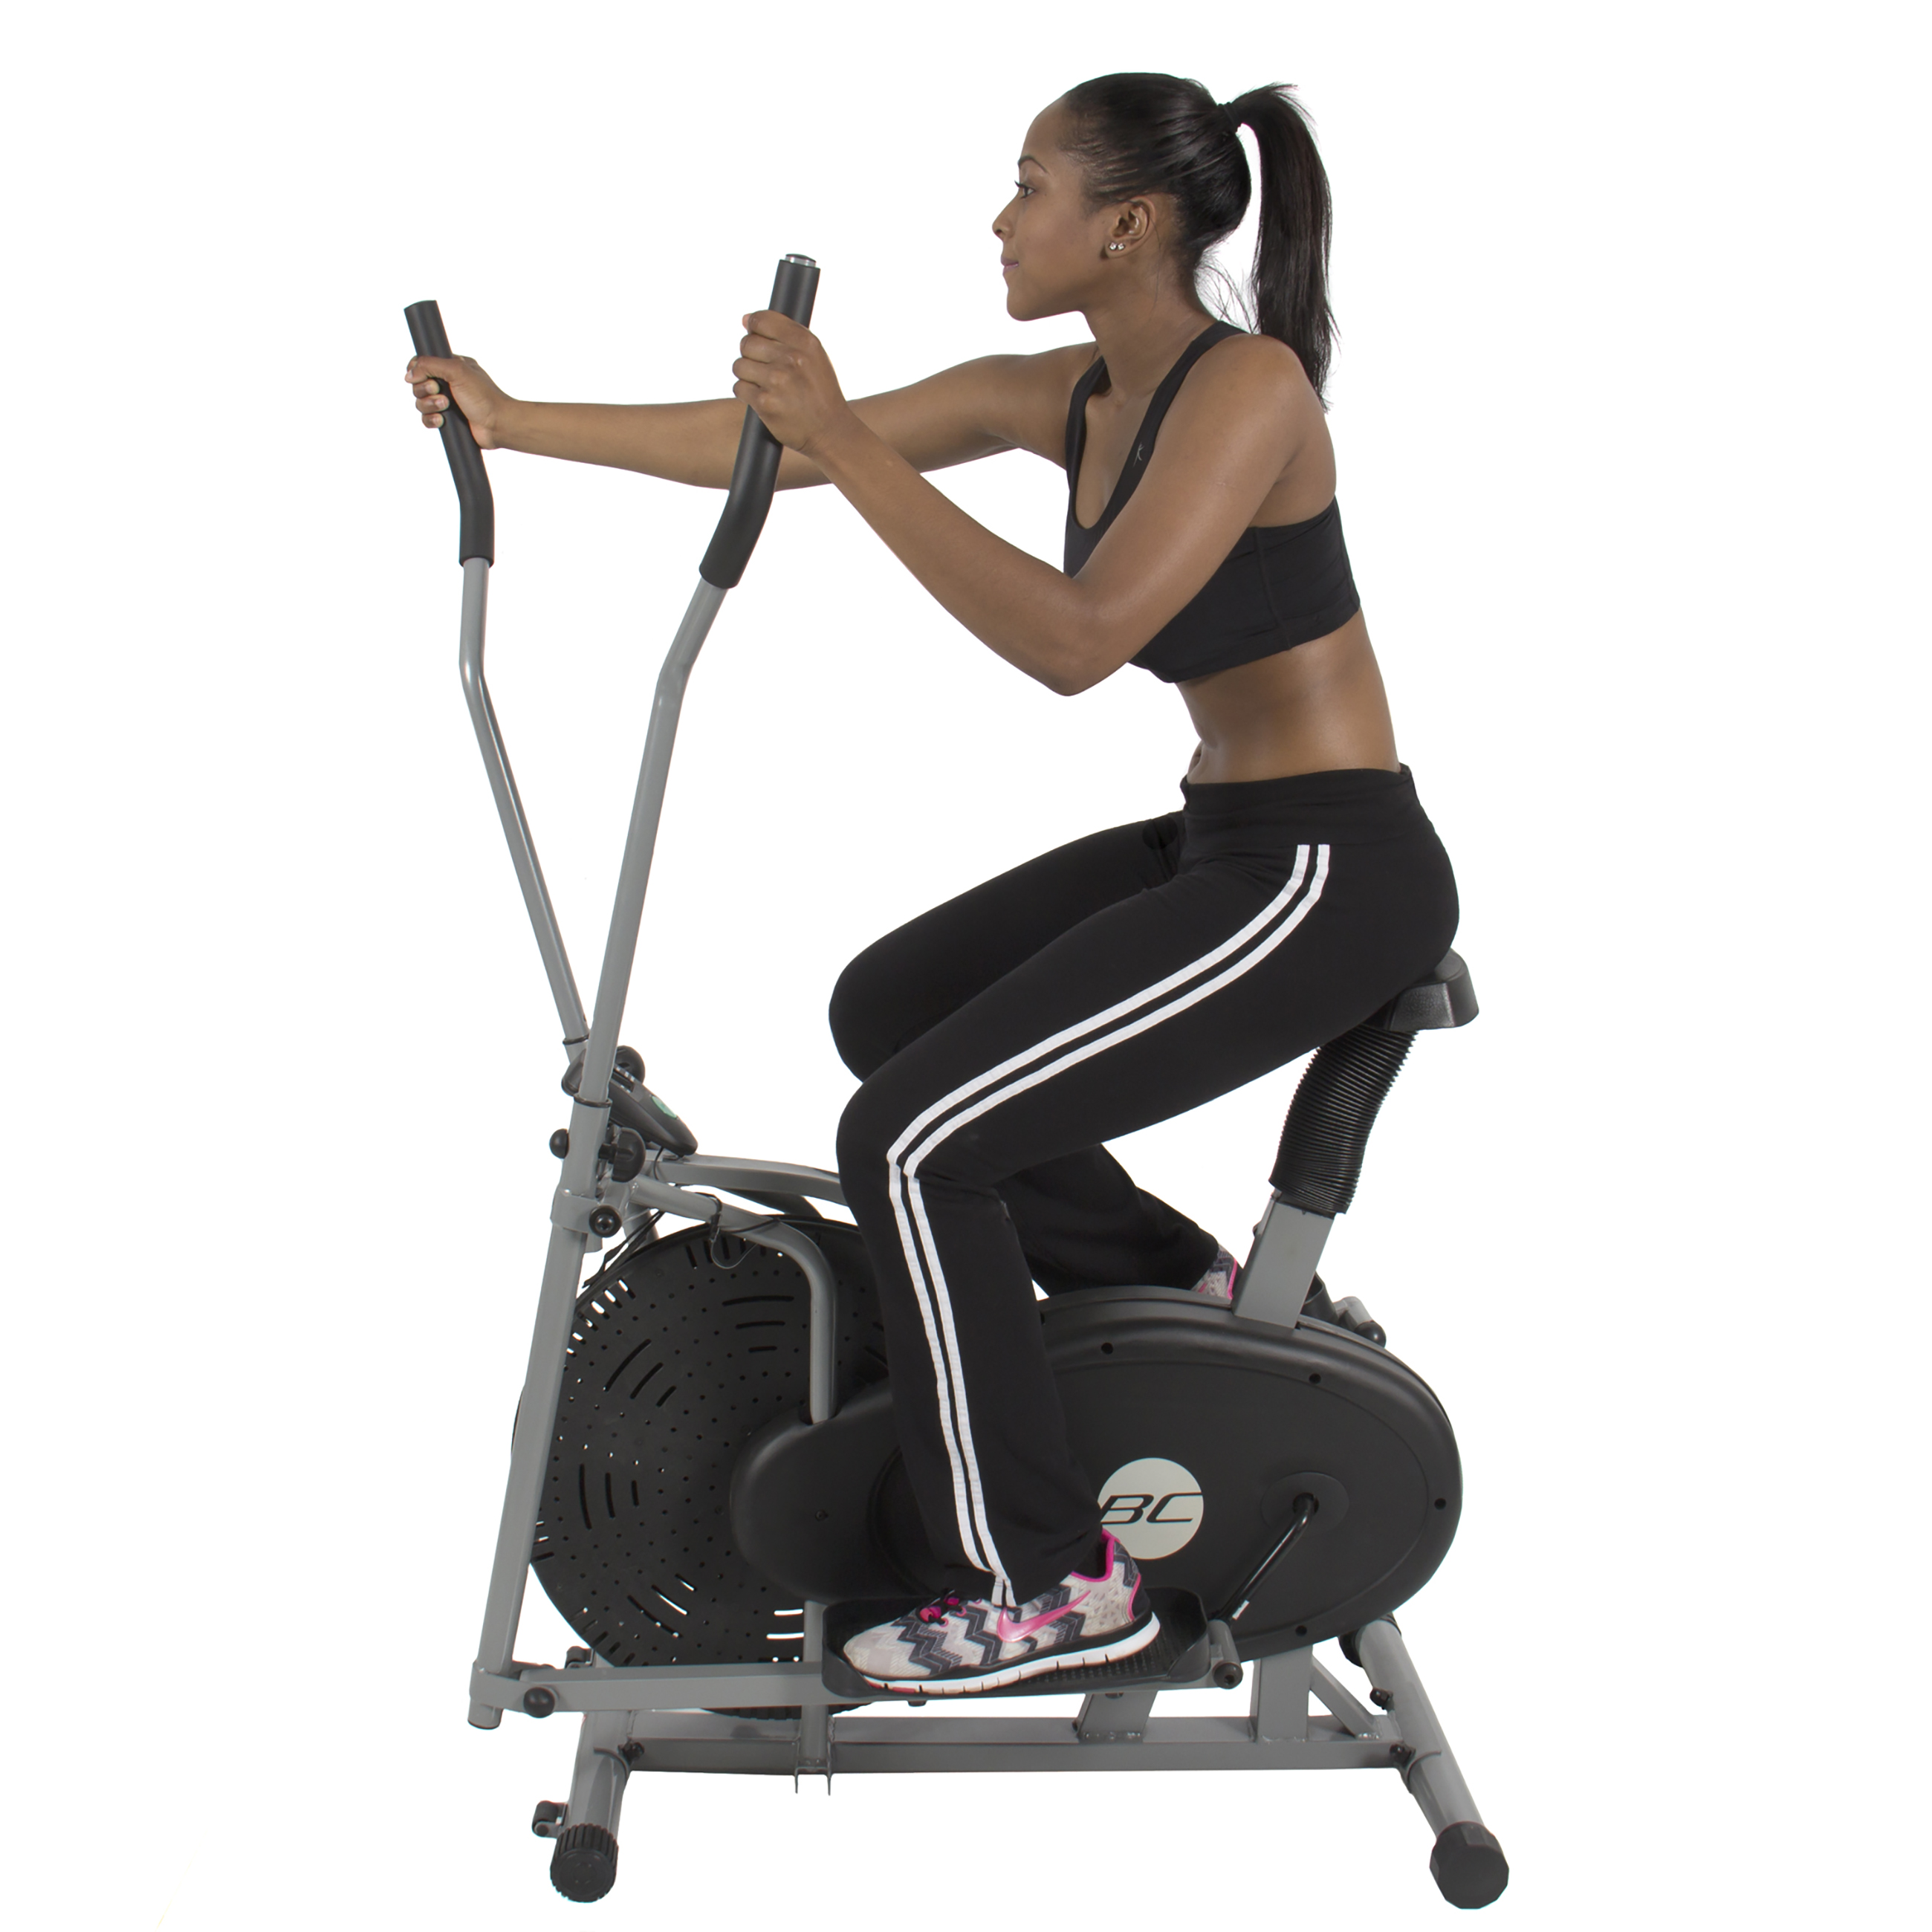gym_bike: (299, 255, 1555, 1911)
